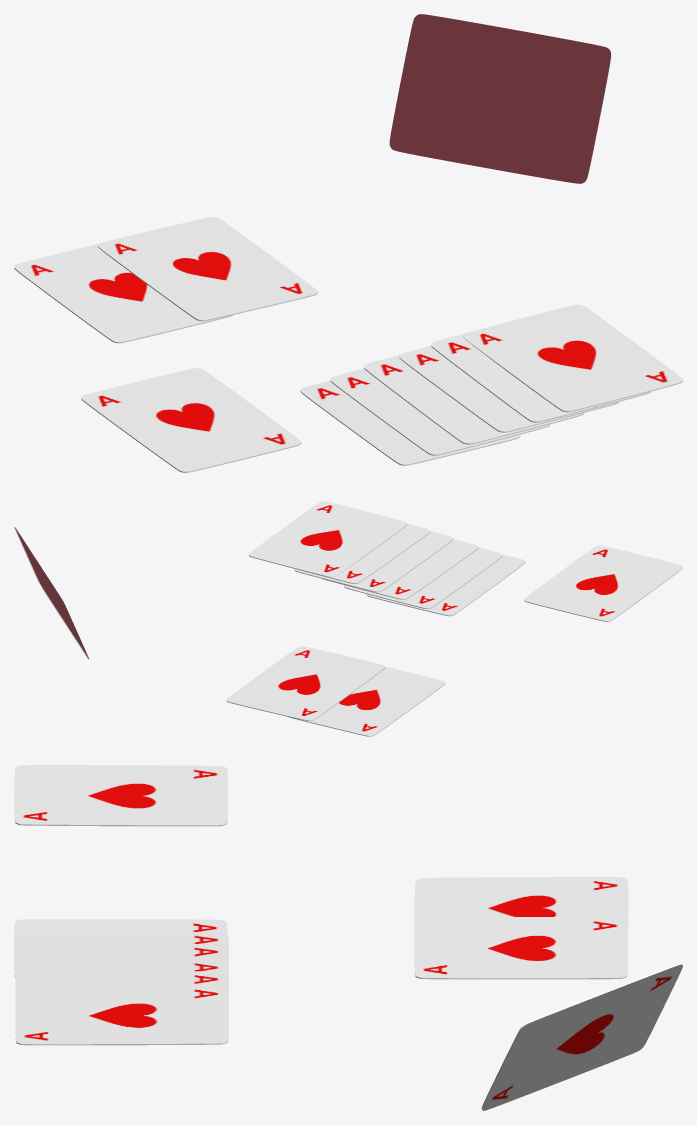
The model's file is Cards_AnimSplit02.fbx.
The picture shows the model from 3 angles, top to bottom: view 1: azimuth 30°, elevation 25°; view 2: azimuth 150°, elevation 25°; view 3: azimuth 270°, elevation 25°; orthographic projection. The views are drawn at different scales.
Visible parts, largest first — view 1: Card03, Card07.001splt1, Card01.001splt2, Card02, Card01, Card04.001splt1, Card03.001splt1, Card05.001splt1, Card06.001splt1, Card01.001splt1; view 2: Card01.001splt2, Card07.001splt1, Card02, Card01, Card03.001splt1, Card05.001splt1, Card04.001splt1, Card01.001splt1, Card06.001splt1, Card03; view 3: Card02, Card01.001splt2, Card07.001splt1, Card03, Card01, Card04.001splt1, Card06.001splt1, Card01.001splt1, Card05.001splt1, Card03.001splt1.
Part boxes in pixels (x1,y1,x2,y2): Card03: (389, 14, 611, 183); Card07.001splt1: (462, 304, 682, 412); Card01.001splt2: (81, 368, 301, 472); Card02: (97, 217, 317, 321); Card01: (14, 244, 233, 343); Card04.001splt1: (364, 355, 583, 444); Card03.001splt1: (330, 368, 550, 455); Card05.001splt1: (399, 346, 618, 432); Card06.001splt1: (431, 333, 650, 422); Card01.001splt1: (300, 381, 520, 465); Card01.001splt2: (524, 545, 682, 621); Card07.001splt1: (249, 501, 407, 576); Card02: (226, 646, 385, 720); Card01: (288, 666, 445, 736); Card03.001splt1: (344, 547, 502, 608); Card05.001splt1: (294, 531, 452, 592); Card04.001splt1: (323, 539, 478, 599); Card01.001splt1: (366, 554, 525, 616); Card06.001splt1: (298, 523, 430, 583); Card03: (14, 527, 88, 659); Card02: (414, 917, 627, 979); Card01.001splt2: (14, 765, 227, 826); Card07.001splt1: (15, 985, 228, 1045); Card03: (481, 963, 682, 1110); Card01: (414, 877, 628, 927); Card04.001splt1: (15, 943, 228, 972); Card06.001splt1: (15, 971, 228, 997); Card01.001splt1: (14, 919, 227, 977); Card05.001splt1: (15, 959, 228, 984); Card03.001splt1: (15, 931, 228, 960).
Bounding box in the file's own units: 108 × 19.56 × 91.37.
